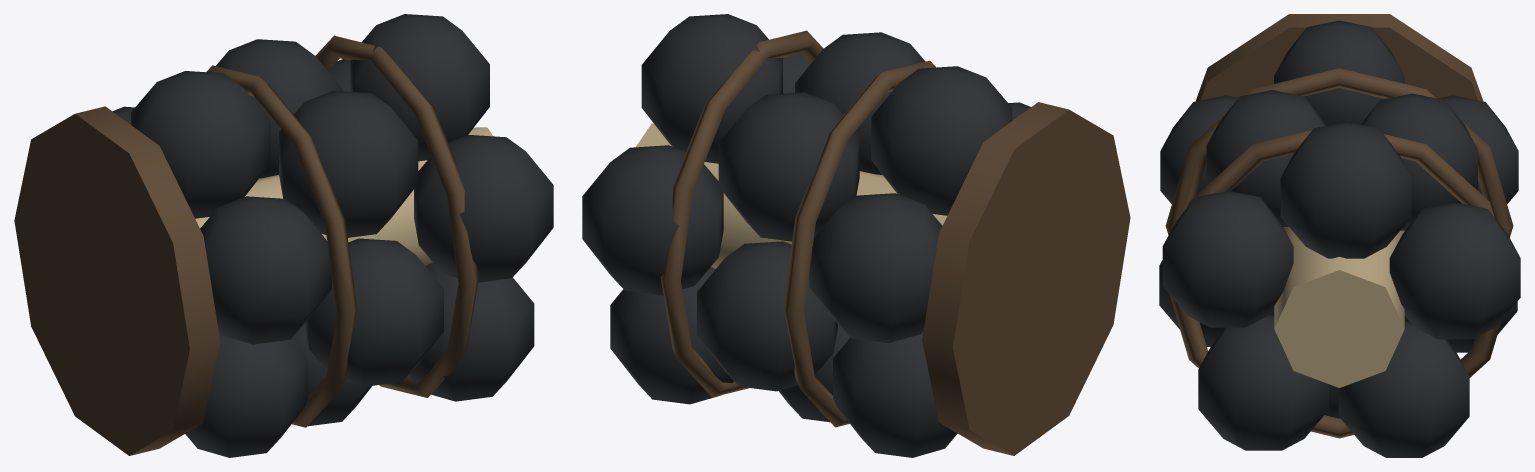
File: grapeshot.glb
3 renders of one model, left to right at view 1: azimuth 30°, elevation 25°; view 2: azimuth 150°, elevation 25°; view 3: azimuth 270°, elevation 25°, orthographic. The views are drawn at different scales.
Parts seen in each view (by area): view 1: Mesh_Base, Mesh_Ball0_1, Mesh_Ball2_0, Mesh_Ball1_0, Mesh_Ball0_0, Mesh_Ball1_1, Mesh_Ball2_4, Mesh_Ball0_2, Mesh_Ball2_1, Mesh_CordB, Mesh_CordA, Mesh_Ball1_4 (+2 smaller); view 2: Mesh_Base, Mesh_Ball0_4, Mesh_Ball2_3, Mesh_Ball1_4, Mesh_Ball0_0, Mesh_Ball1_3, Mesh_Ball2_4, Mesh_Ball0_3, Mesh_CordB, Mesh_CordA, Mesh_Ball2_2, Mesh_Ball1_0 (+3 smaller); view 3: Mesh_Core, Mesh_Ball2_4, Mesh_Ball2_0, Mesh_Ball2_3, Mesh_Ball2_1, Mesh_Ball2_2, Mesh_Base, Mesh_CordB, Mesh_Ball0_0, Mesh_Ball1_0, Mesh_Ball1_4, Mesh_CordA (+4 smaller).
Boxes of the visible parts, x1,y1,x2,y2 form: Mesh_Base: [14, 106, 220, 455]; Mesh_Ball0_1: [200, 196, 331, 344]; Mesh_Ball2_0: [414, 135, 553, 282]; Mesh_Ball1_0: [279, 90, 418, 237]; Mesh_Ball0_0: [131, 71, 270, 218]; Mesh_Ball1_1: [304, 238, 443, 386]; Mesh_Ball2_4: [350, 14, 489, 161]; Mesh_Ball0_2: [185, 333, 308, 457]; Mesh_Ball2_1: [409, 262, 534, 401]; Mesh_CordB: [315, 35, 478, 397]; Mesh_CordA: [206, 65, 357, 427]; Mesh_Ball1_4: [216, 39, 342, 178]; Mesh_Base: [922, 102, 1130, 455]; Mesh_Ball0_4: [809, 193, 942, 343]; Mesh_Ball2_3: [582, 145, 723, 295]; Mesh_Ball1_4: [718, 92, 859, 241]; Mesh_Ball0_0: [871, 66, 1012, 215]; Mesh_Ball1_3: [697, 241, 837, 391]; Mesh_Ball2_4: [641, 14, 782, 163]; Mesh_Ball0_3: [833, 332, 957, 457]; Mesh_CordB: [661, 30, 823, 397]; Mesh_CordA: [783, 60, 936, 427]; Mesh_Ball2_2: [610, 267, 733, 404]; Mesh_Ball1_0: [795, 32, 925, 174]; Mesh_Core: [1274, 227, 1404, 387]; Mesh_Ball2_4: [1280, 121, 1411, 258]; Mesh_Ball2_0: [1162, 190, 1293, 327]; Mesh_Ball2_3: [1389, 202, 1520, 339]; Mesh_Ball2_1: [1198, 315, 1329, 450]; Mesh_Ball2_2: [1338, 321, 1469, 457]; Mesh_Base: [1196, 14, 1483, 101]; Mesh_CordB: [1170, 130, 1501, 438]; Mesh_Ball0_0: [1274, 20, 1404, 125]; Mesh_Ball1_0: [1206, 90, 1326, 226]; Mesh_Ball1_4: [1361, 93, 1477, 230]; Mesh_CordA: [1165, 68, 1513, 237].
Size of the model in its own units: 0.76 by 0.6999 by 0.6649.
